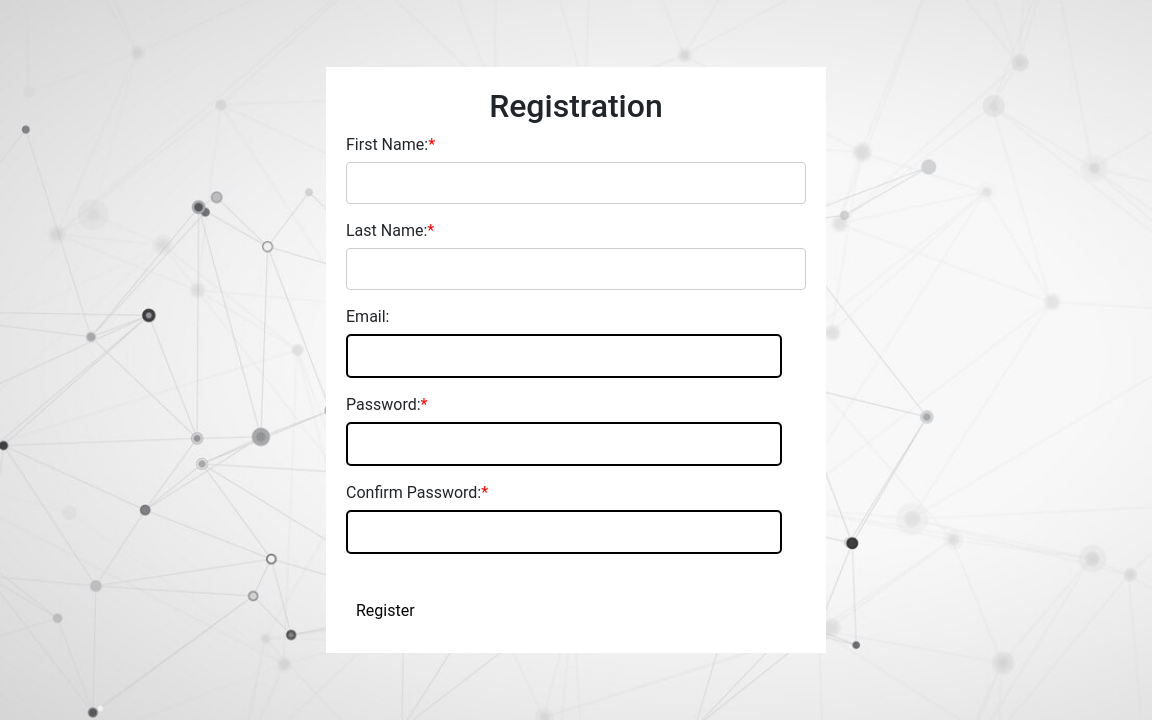
Test: Registration component › validates first name input
The width and height of the screenshot is (1152, 720).
Type "A" into the field labelled "First Name:" at (576, 183), box [346,162,806,204]
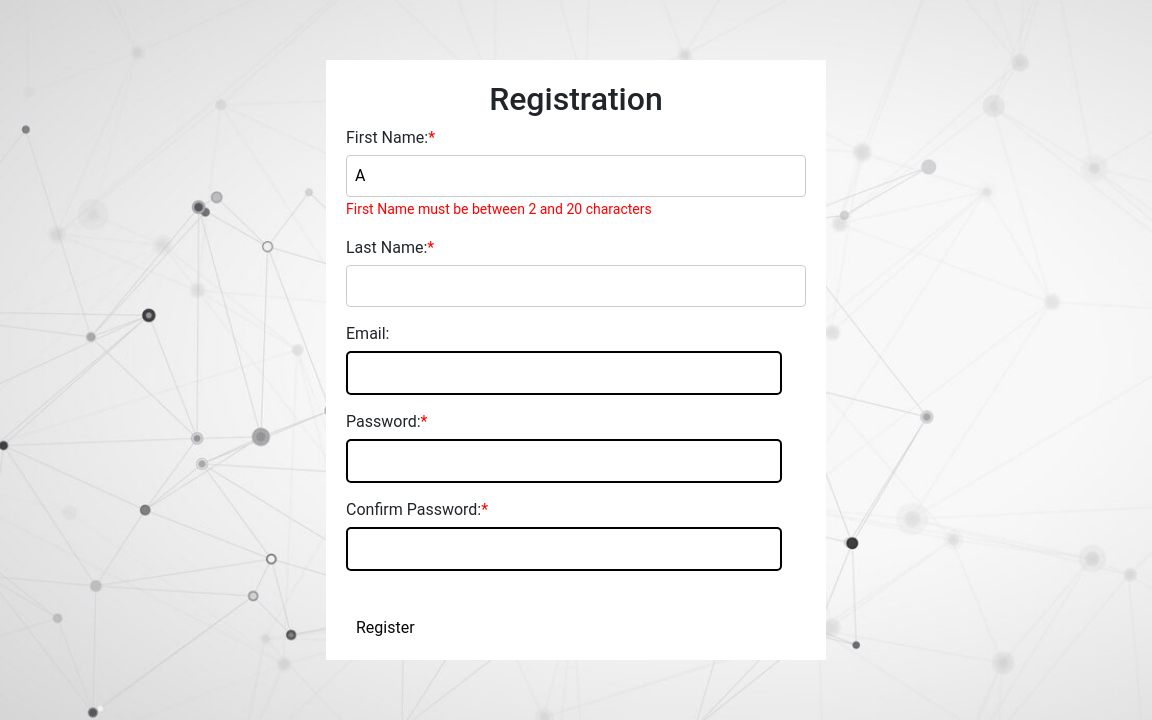
Expected: the text "First Name must be between 2 and 20 characters" is shown, [346,201,652,217]
